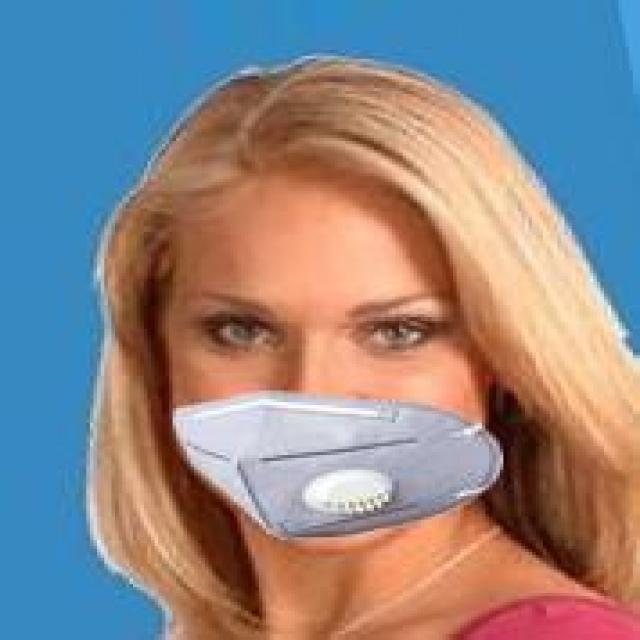mask: (72, 76, 564, 552)
